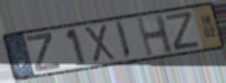1: (65, 27, 88, 67)
H: (135, 13, 177, 59)
I: (114, 20, 133, 61)
X: (82, 23, 118, 64)
Z: (164, 9, 203, 53), (25, 32, 63, 74)
